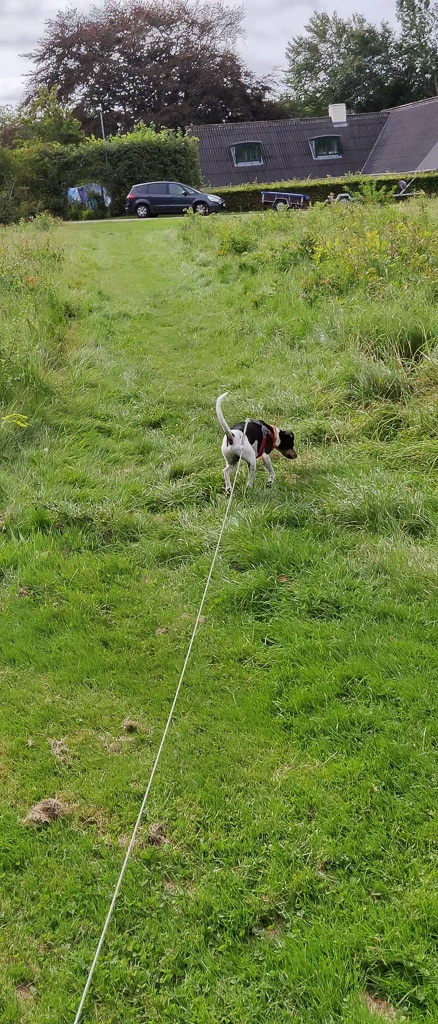Dog: (209, 386, 311, 504)
